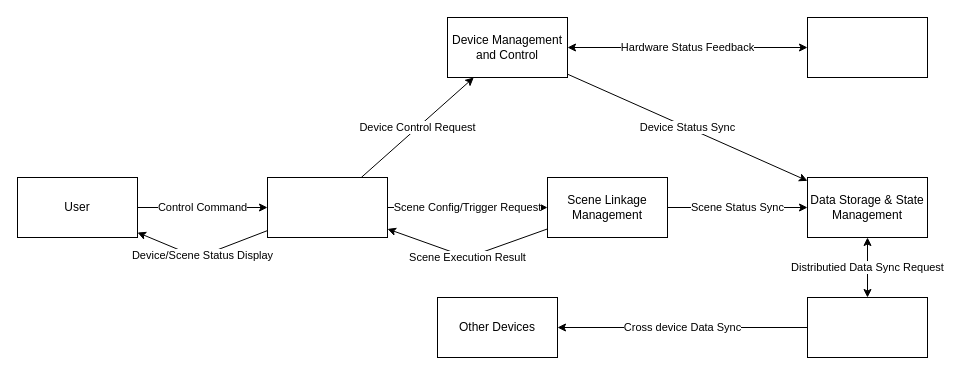
This 961x375 diagram has some shape labels left out. The centre of each missing label's shape, as x and y in pixels:
"Distributed Cross-device Interaction" goes at pixel 867 327.
"Smart Devices" goes at pixel 867 47.
"User Interaction" goes at pixel 327 207.
